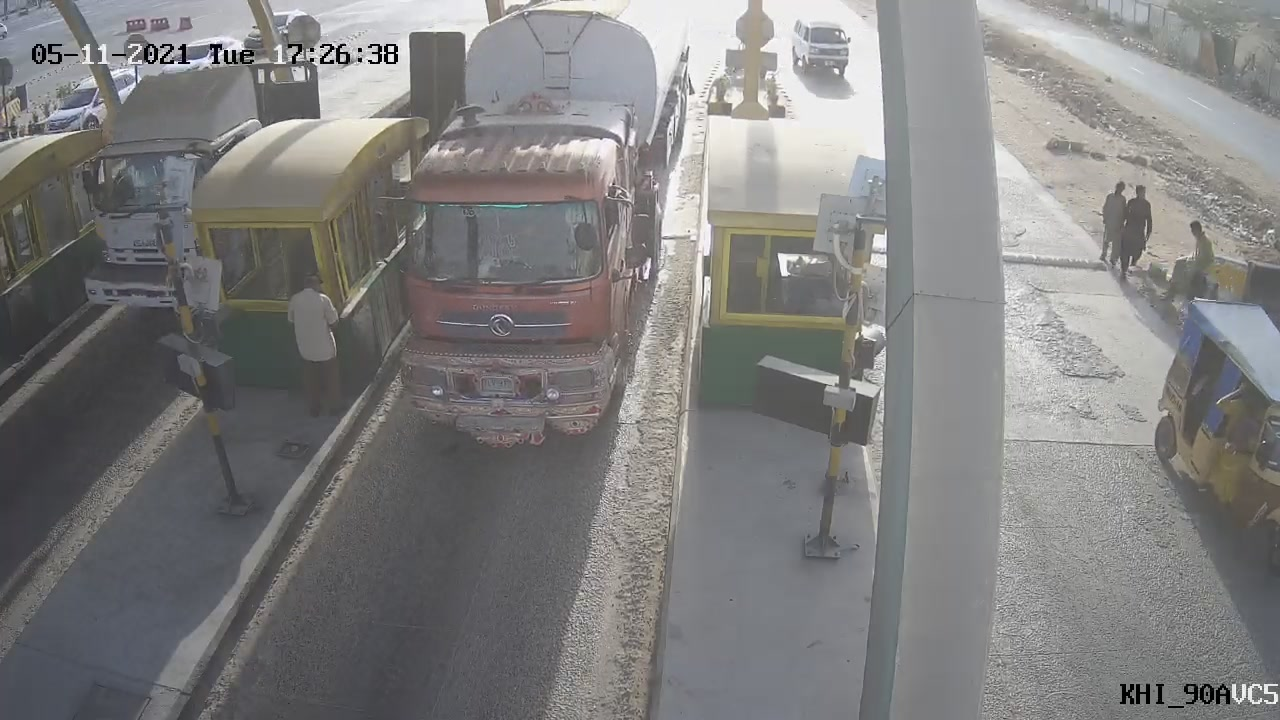F6: (345, 1, 708, 468)
